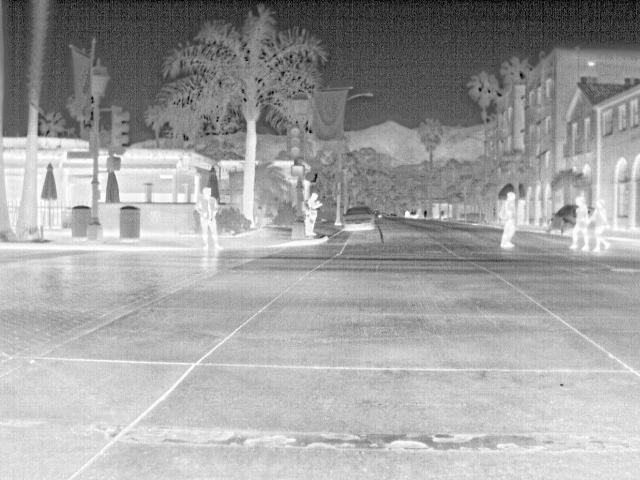car: (544, 202, 578, 234), (344, 202, 378, 230)
person: (193, 183, 221, 250), (497, 190, 519, 252), (569, 195, 593, 249), (590, 198, 613, 250), (302, 190, 326, 238)
